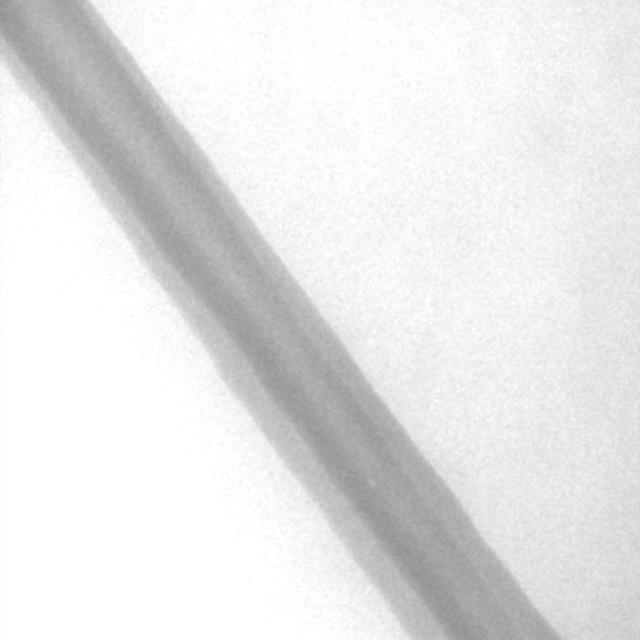air-hole: (368, 476, 373, 489)
